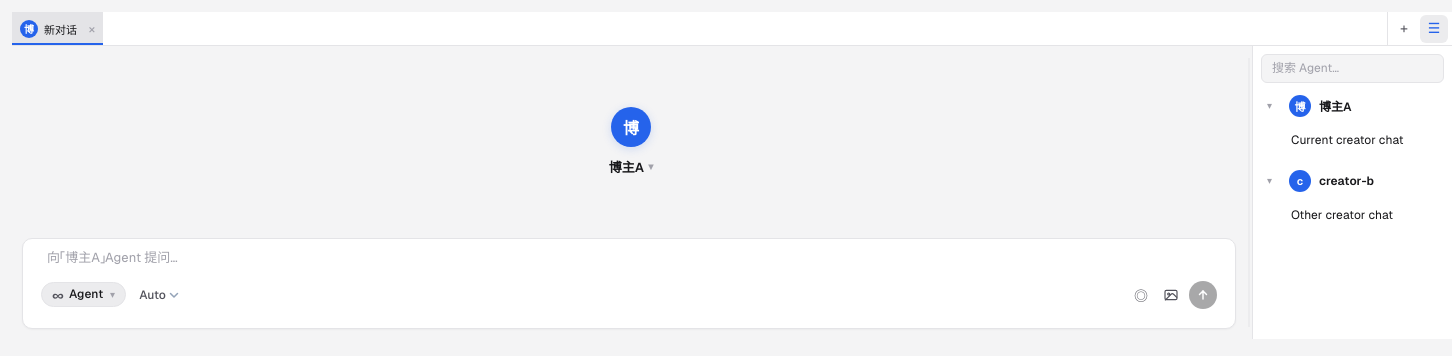
Test case: Agent pane acceptance (A5/A6/A10) › A5: user messages use right-aligned Accio bubble
This screenshot has width=1452, height=356.
Click the button "Current creator chat".
click(1350, 140)  # box [1291,132,1410,148]
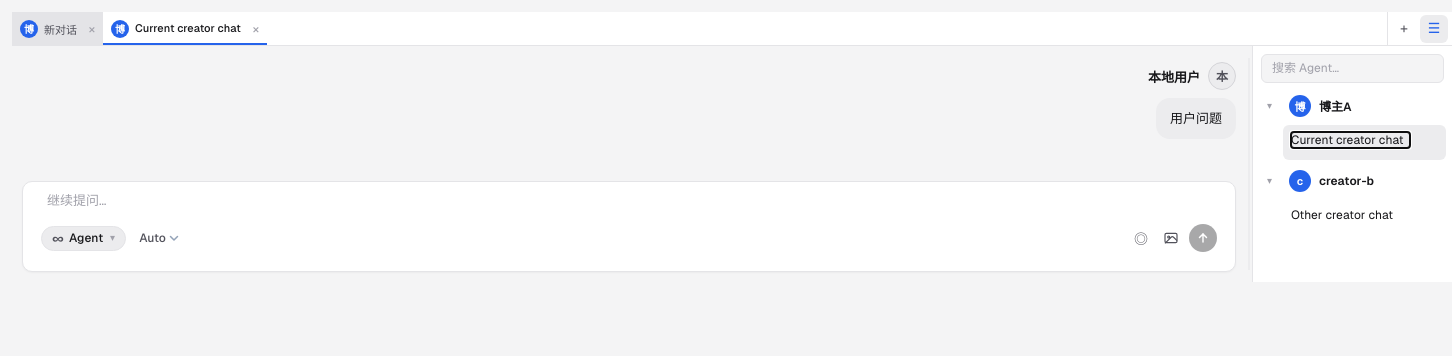
Check: the element with id "chat-live" is shown, box [1148,62,1236,139]
Check: the element with class "chat-msg-bubble" is shown, box [1156,98,1236,139]
Check: the text "用户问题" is shown, box [1170,108,1222,129]
